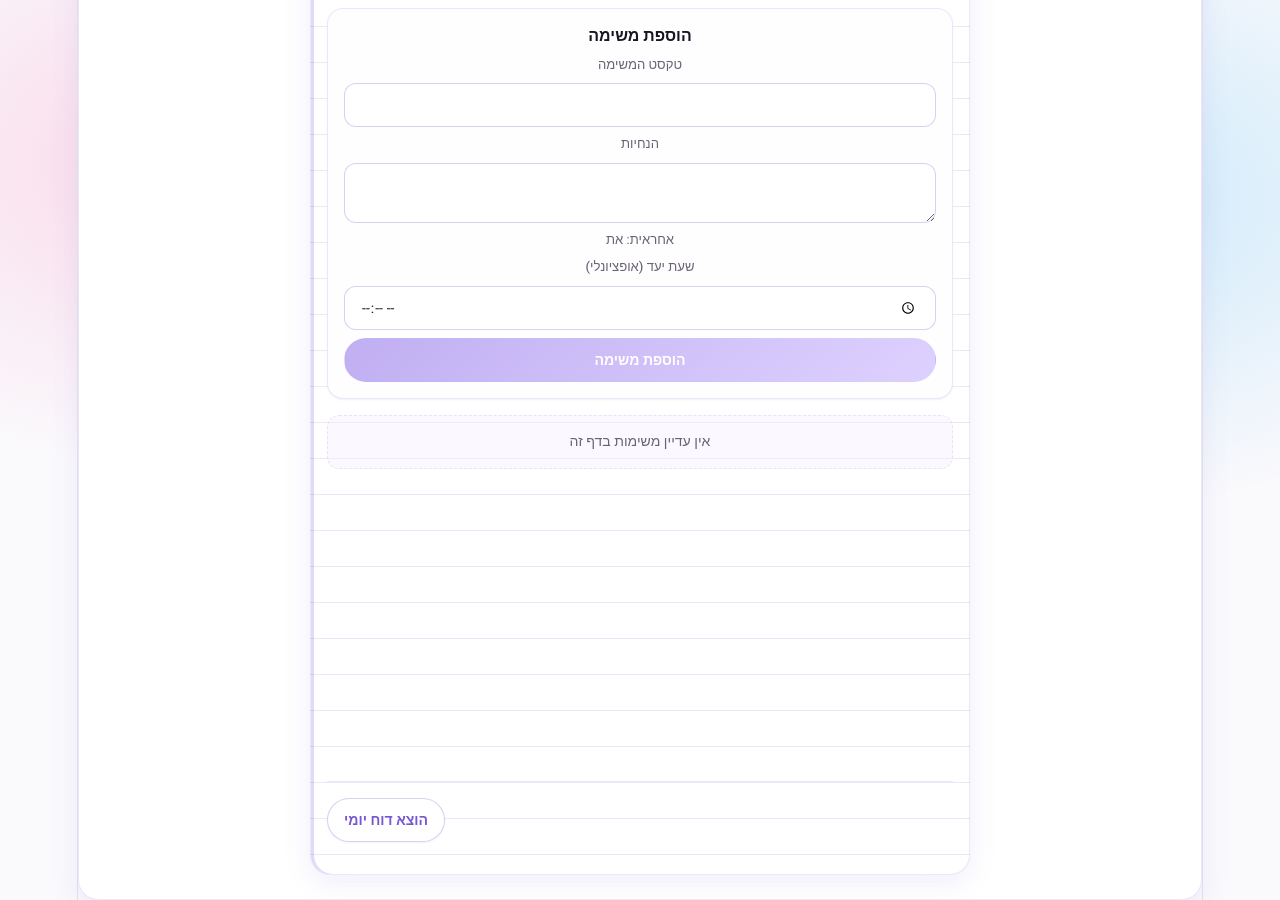
Scenario: ManagementJournalSection J3A daily summary › shows the empty report state when the refreshed page has no tasks
(page scrolled)
Click the button with test id "journal-daily-summary-open": {"x": 386, "y": 820} [327,798,445,842]
(page scrolled)
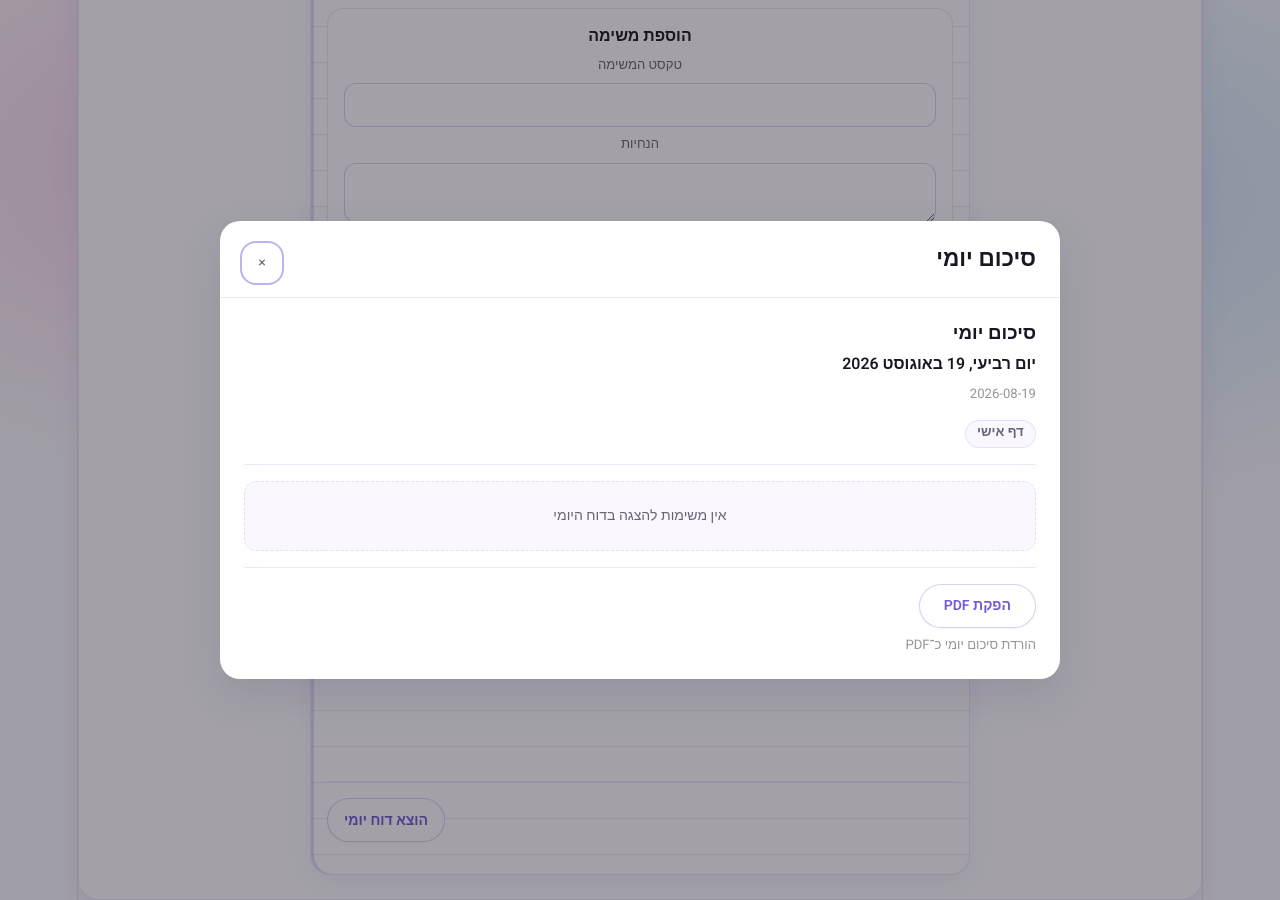
Check: the text with test id "journal-daily-summary-empty" reads "אין משימות להצגה בדוח היומי", box [553,505,727,526]
